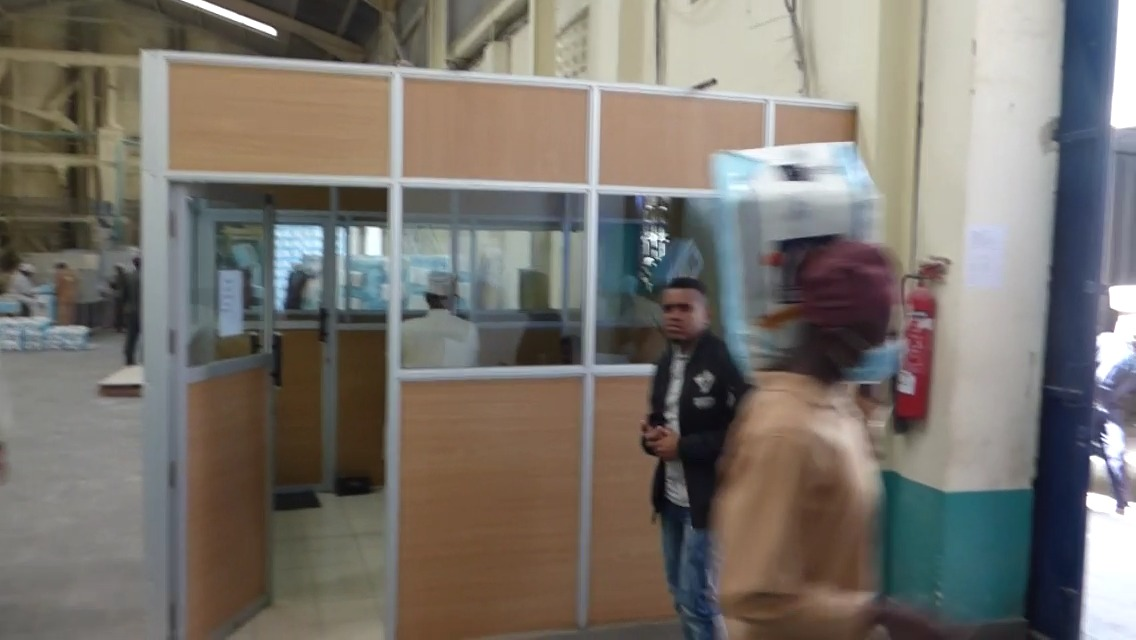wheat_flour_blue_label: (713, 142, 888, 383)
